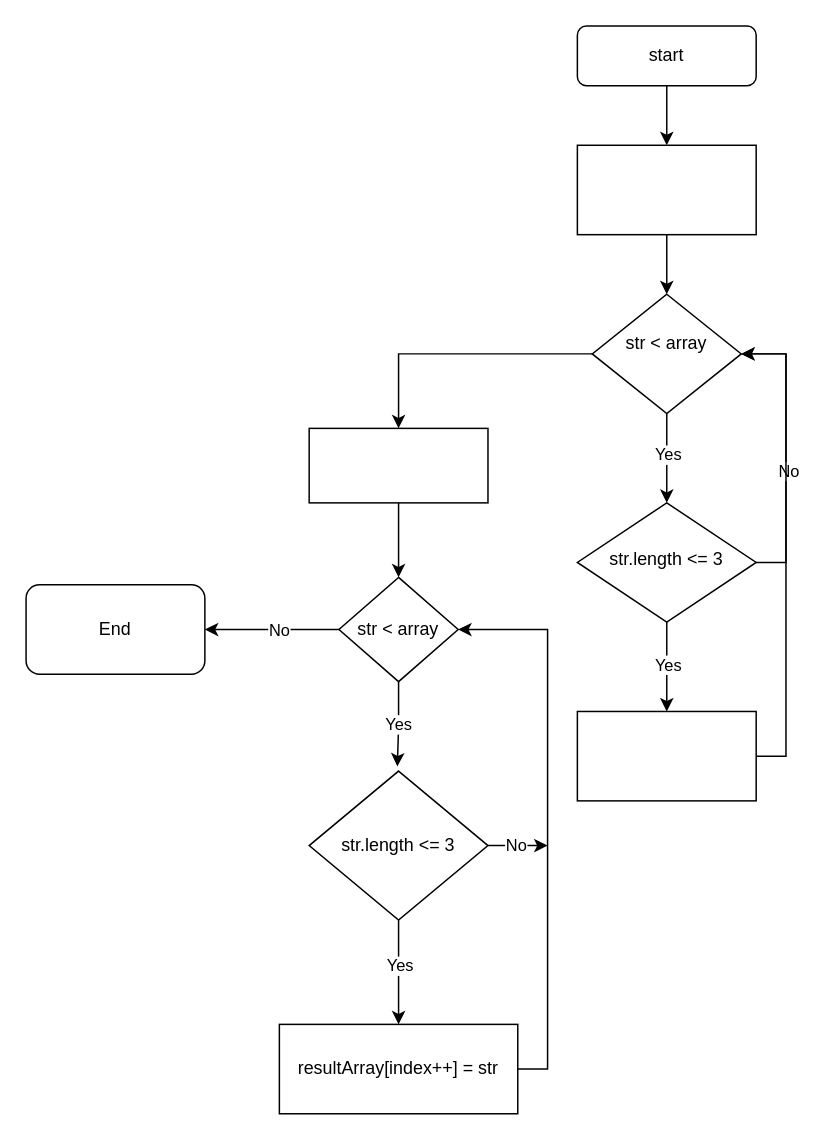
Some shapes in this 824 by 1140 pixel diagram are drawn without their labels. The centre of each missing label's shape, as x and y in pixels:
resultArray index = 0: [398,465]
resultCount = 0 array: [666,189]
resultCount++: [666,755]
